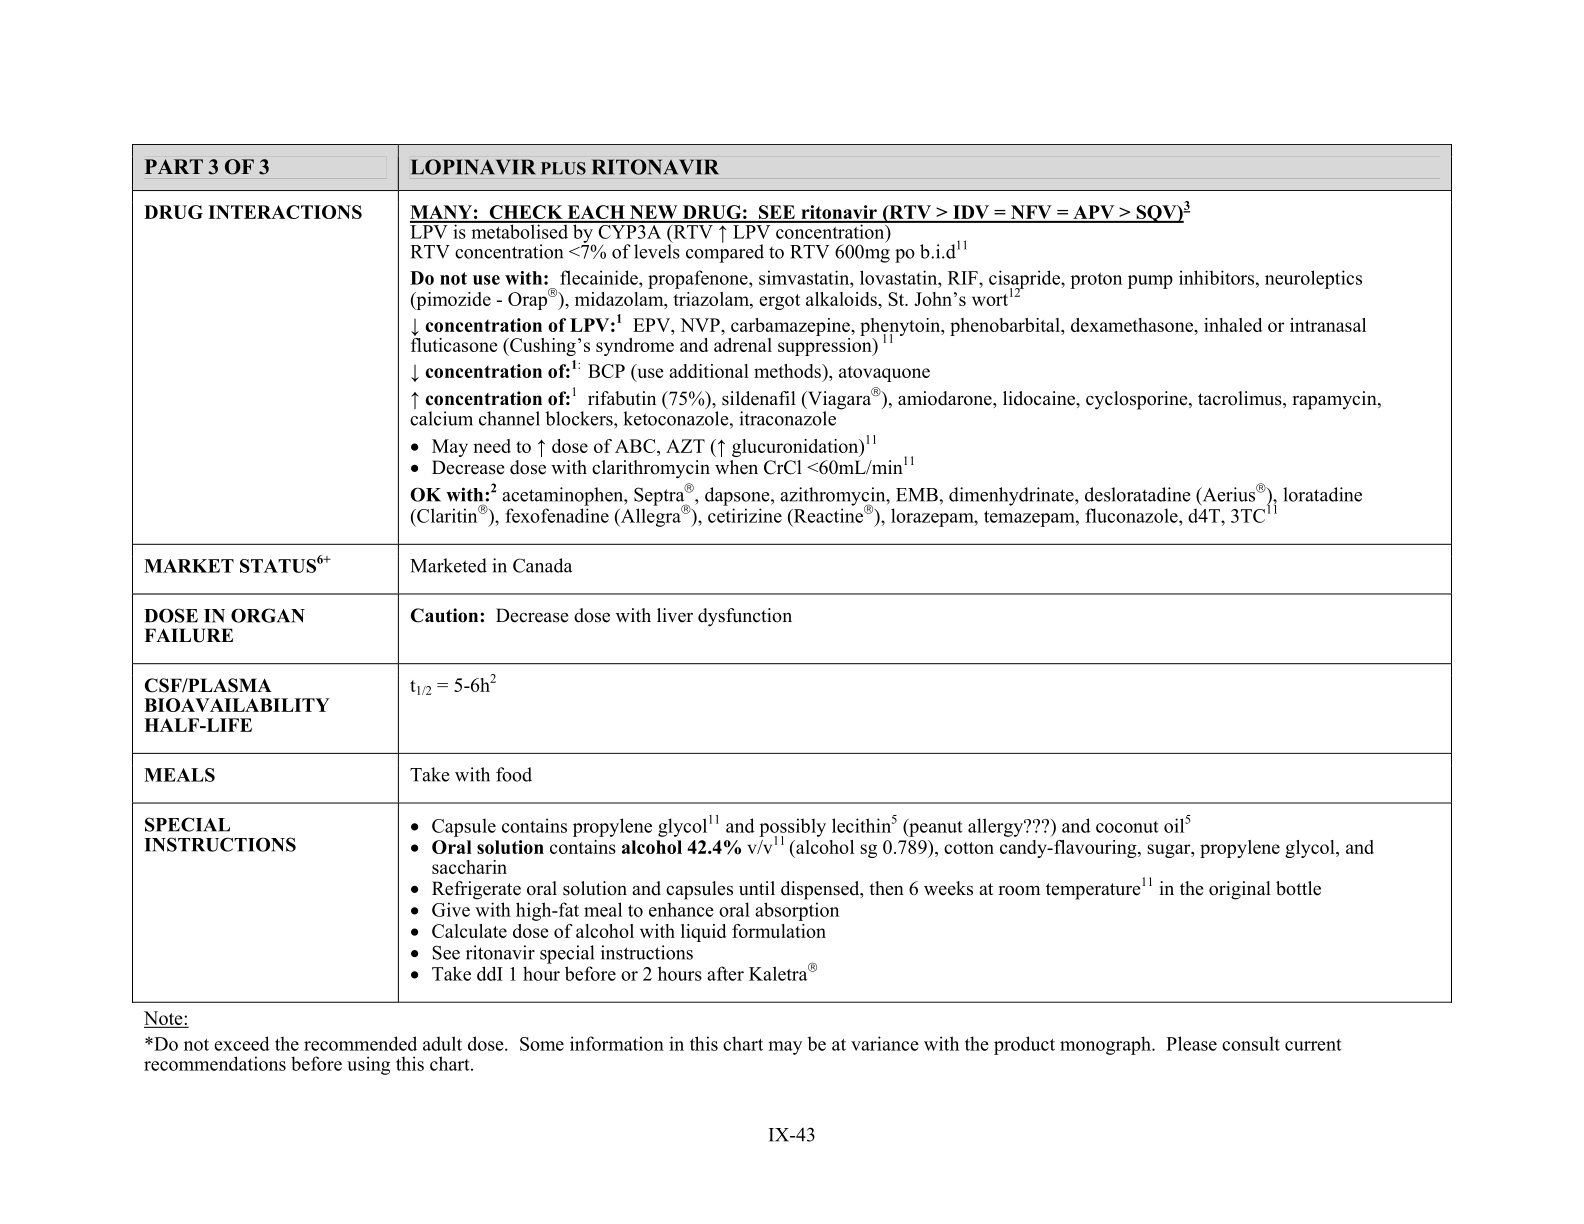full_lined: (132, 143, 1452, 1003)
